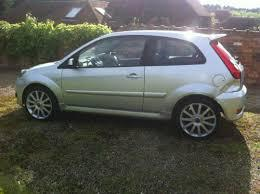quaterpanel-dent: (214, 67, 242, 108)
